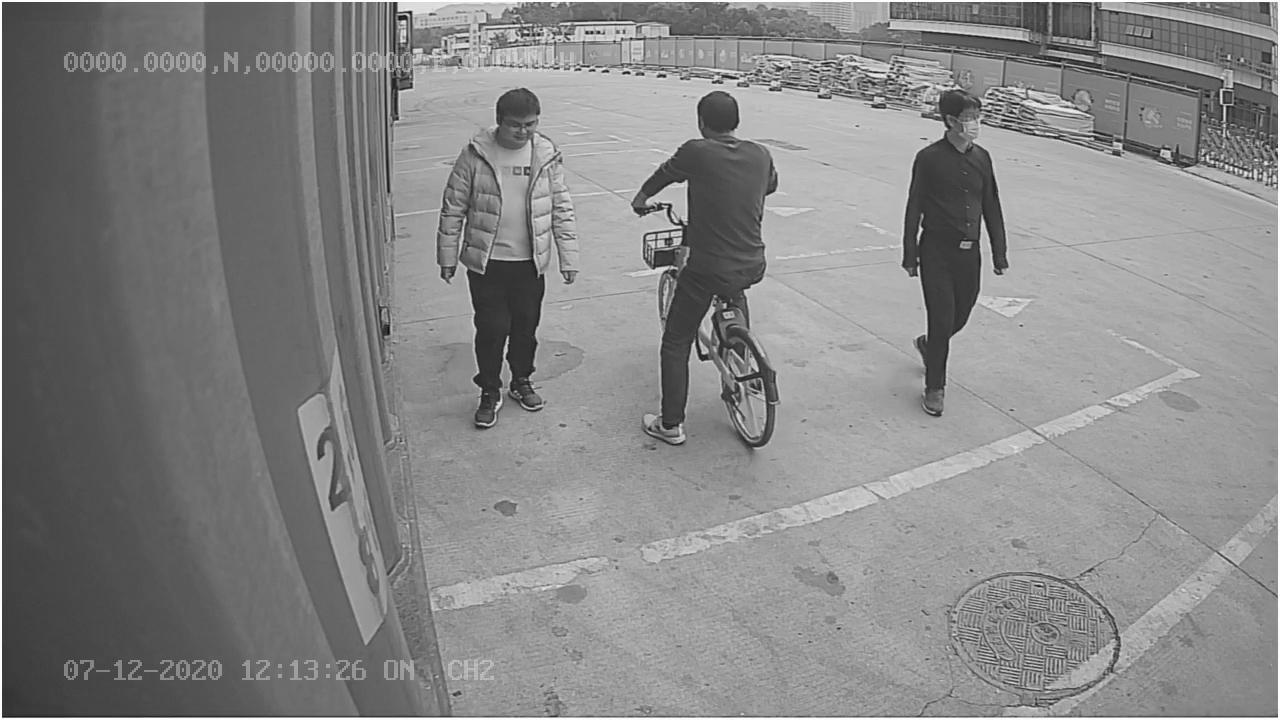person: (437, 86, 583, 426), (901, 84, 1010, 420)
